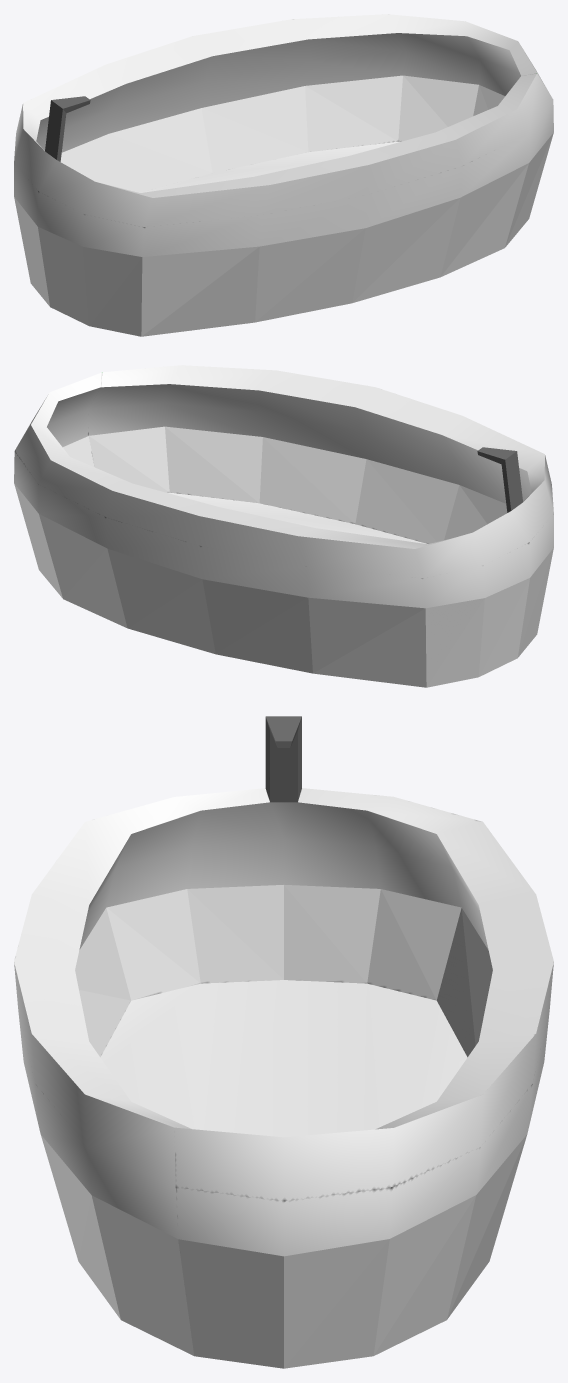
Rendered from Bañera.fbx.
3 views of the same model, one above another, from view 1: azimuth 30°, elevation 25°; view 2: azimuth 150°, elevation 25°; view 3: azimuth 270°, elevation 25° (orthographic). The views are drawn at different scales.
Visible parts, largest first — view 1: Bañera(mapeado)(terturizada); view 2: Bañera(mapeado)(terturizada); view 3: Bañera(mapeado)(terturizada).
Part boxes in pixels (<box>): Bañera(mapeado)(terturizada): <box>14,14,553,336</box>; Bañera(mapeado)(terturizada): <box>14,365,553,687</box>; Bañera(mapeado)(terturizada): <box>14,716,553,1368</box>.
Size of the model in its own units: 890 by 342 by 543.
